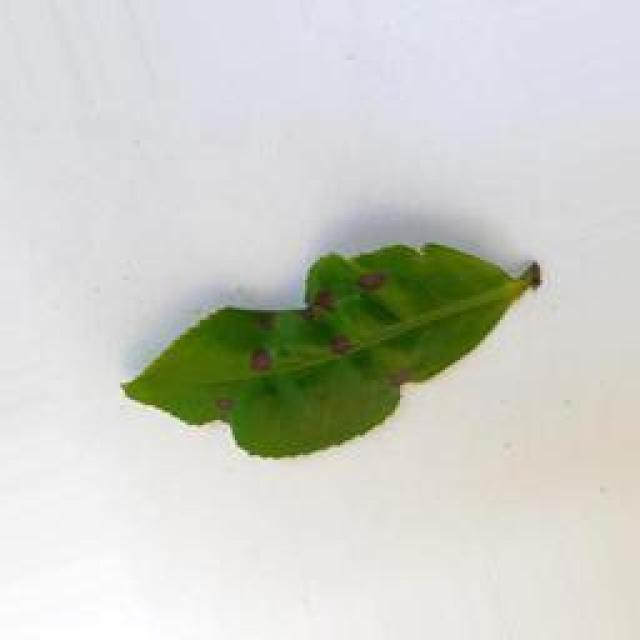Helopeltis: (130, 239, 540, 463)
